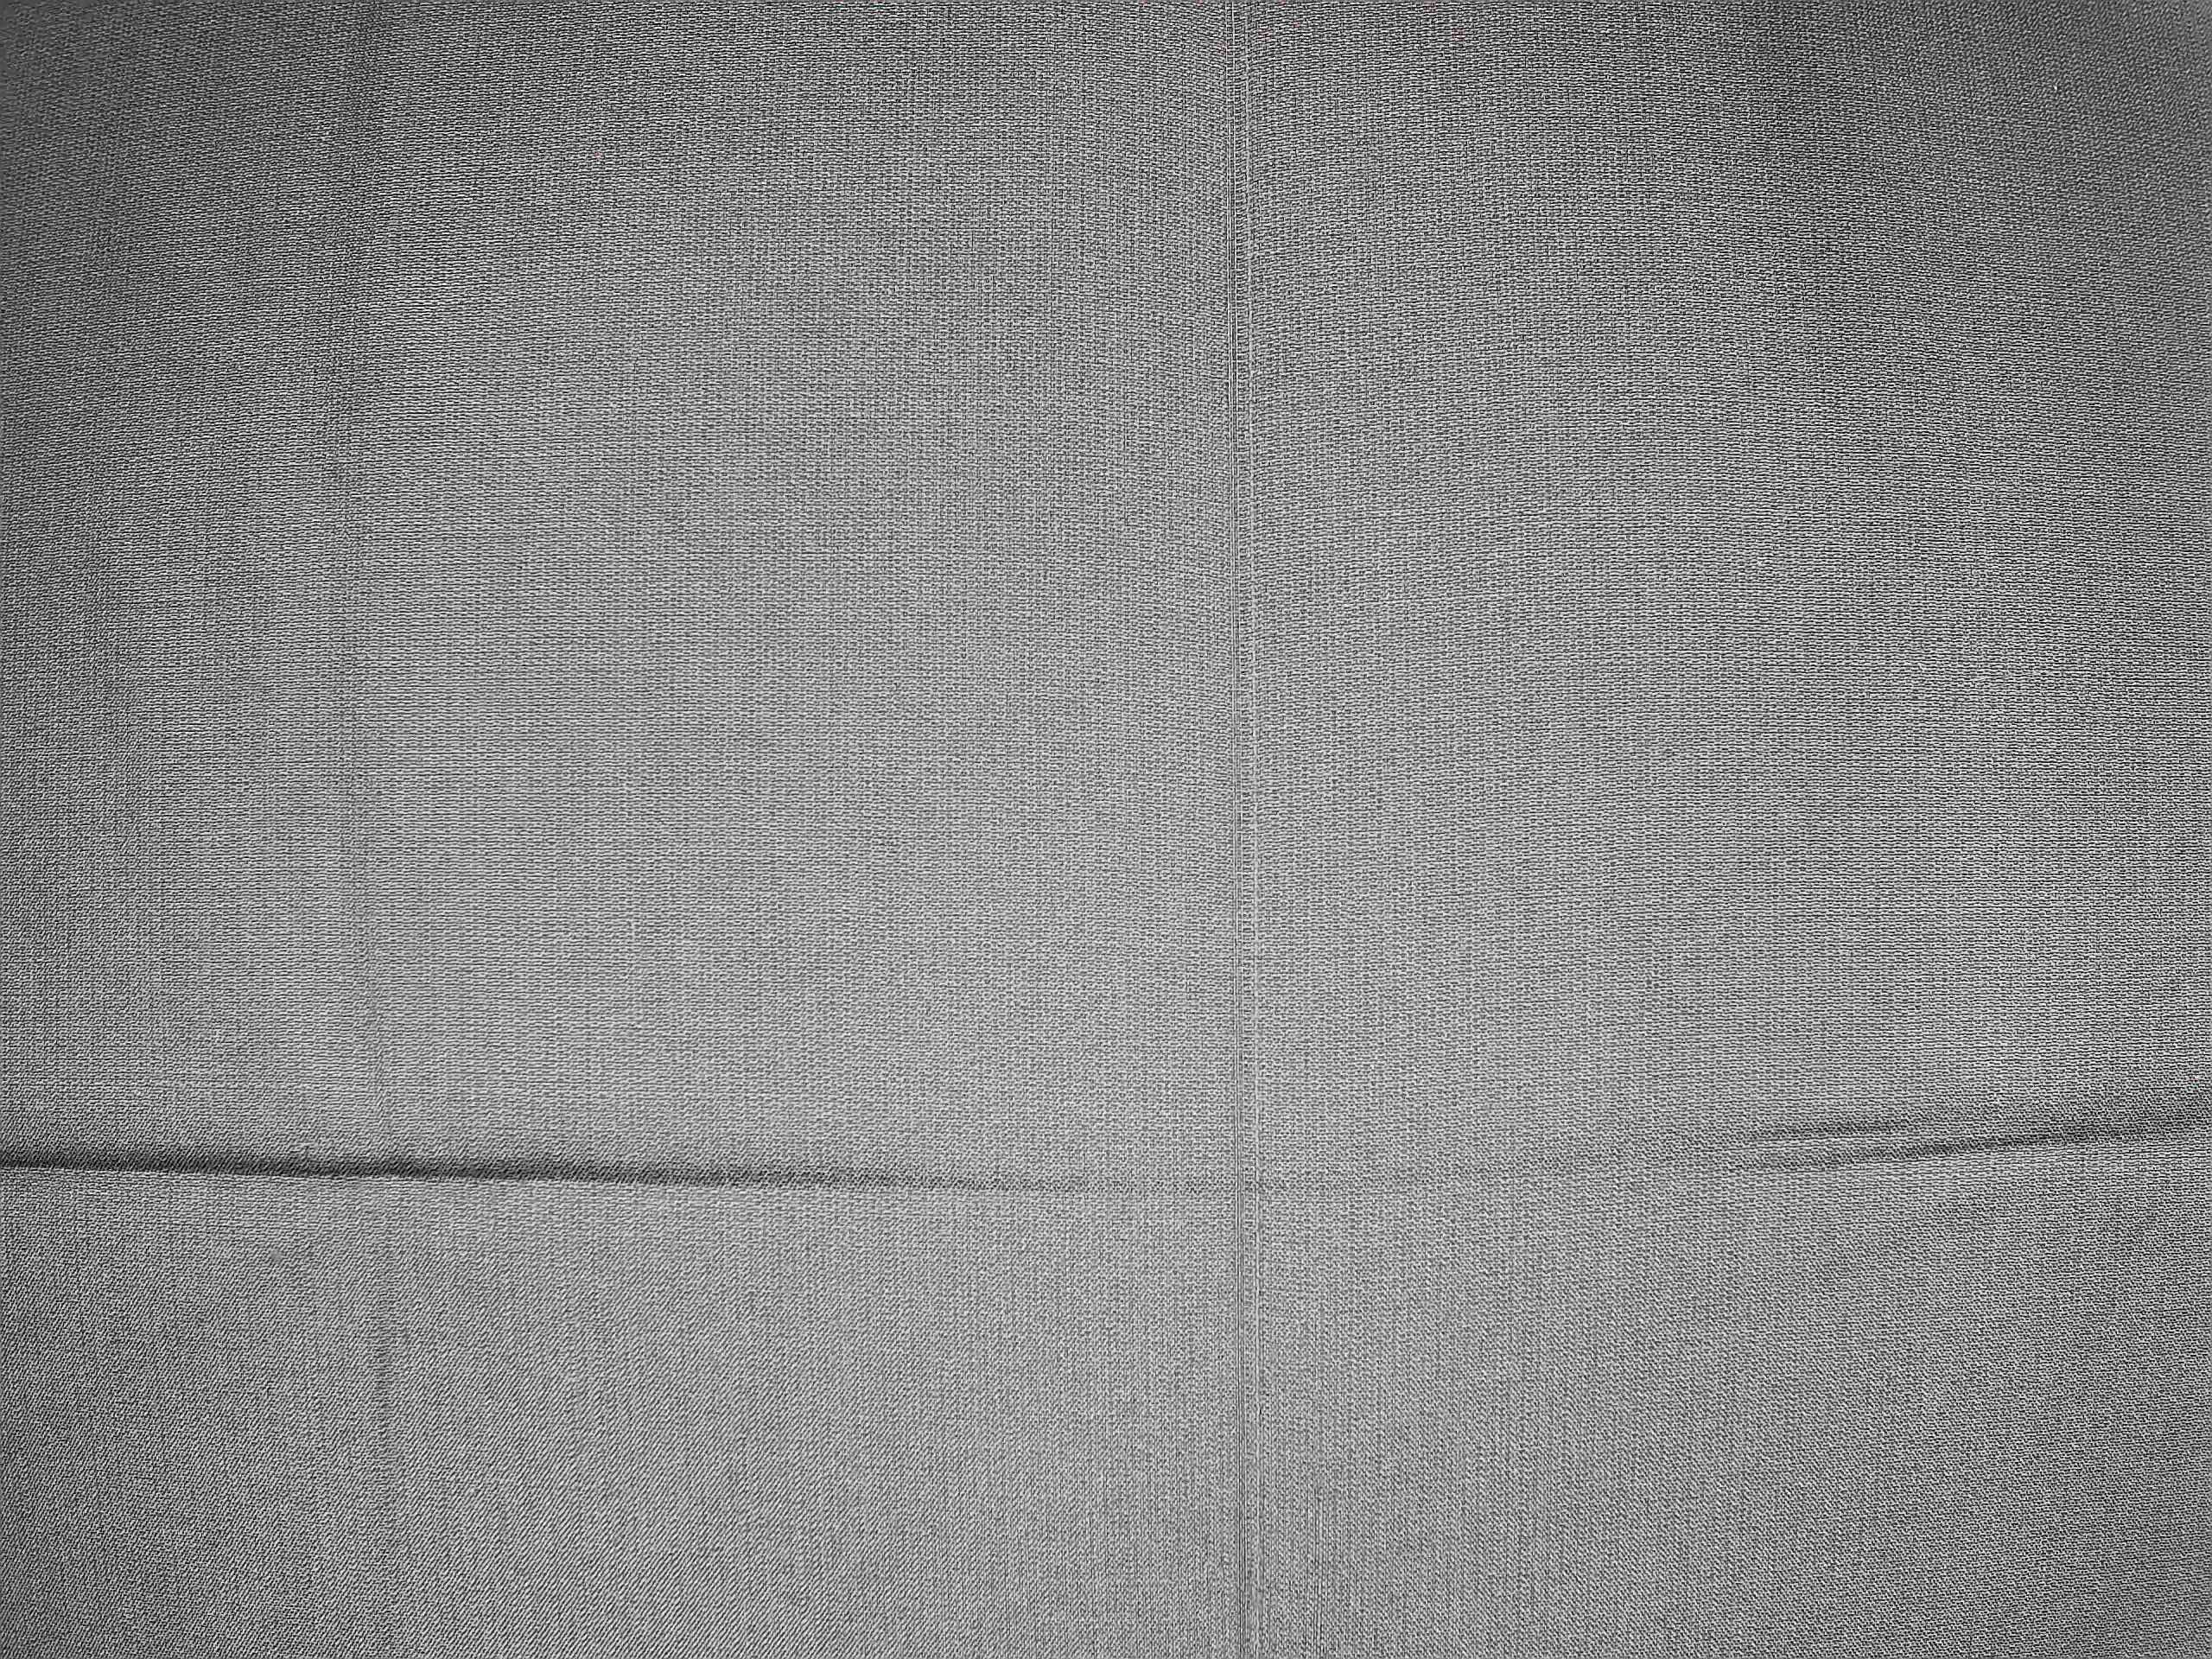hanging-warp: (1211, 9, 1275, 1633)
